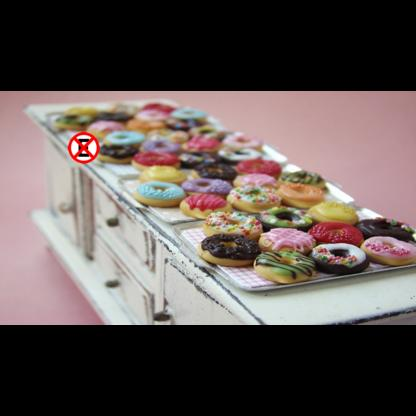R-6c: (68, 132, 100, 164)
